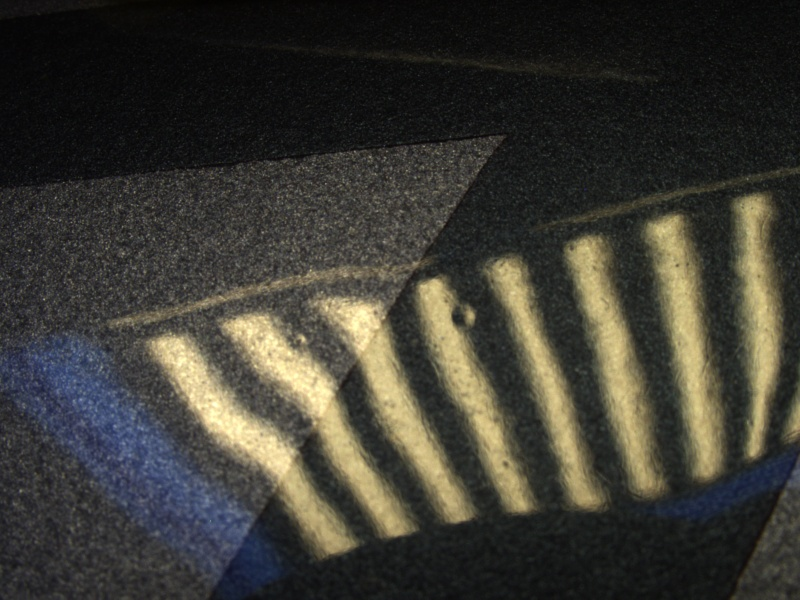bad: (447, 298, 480, 335)
